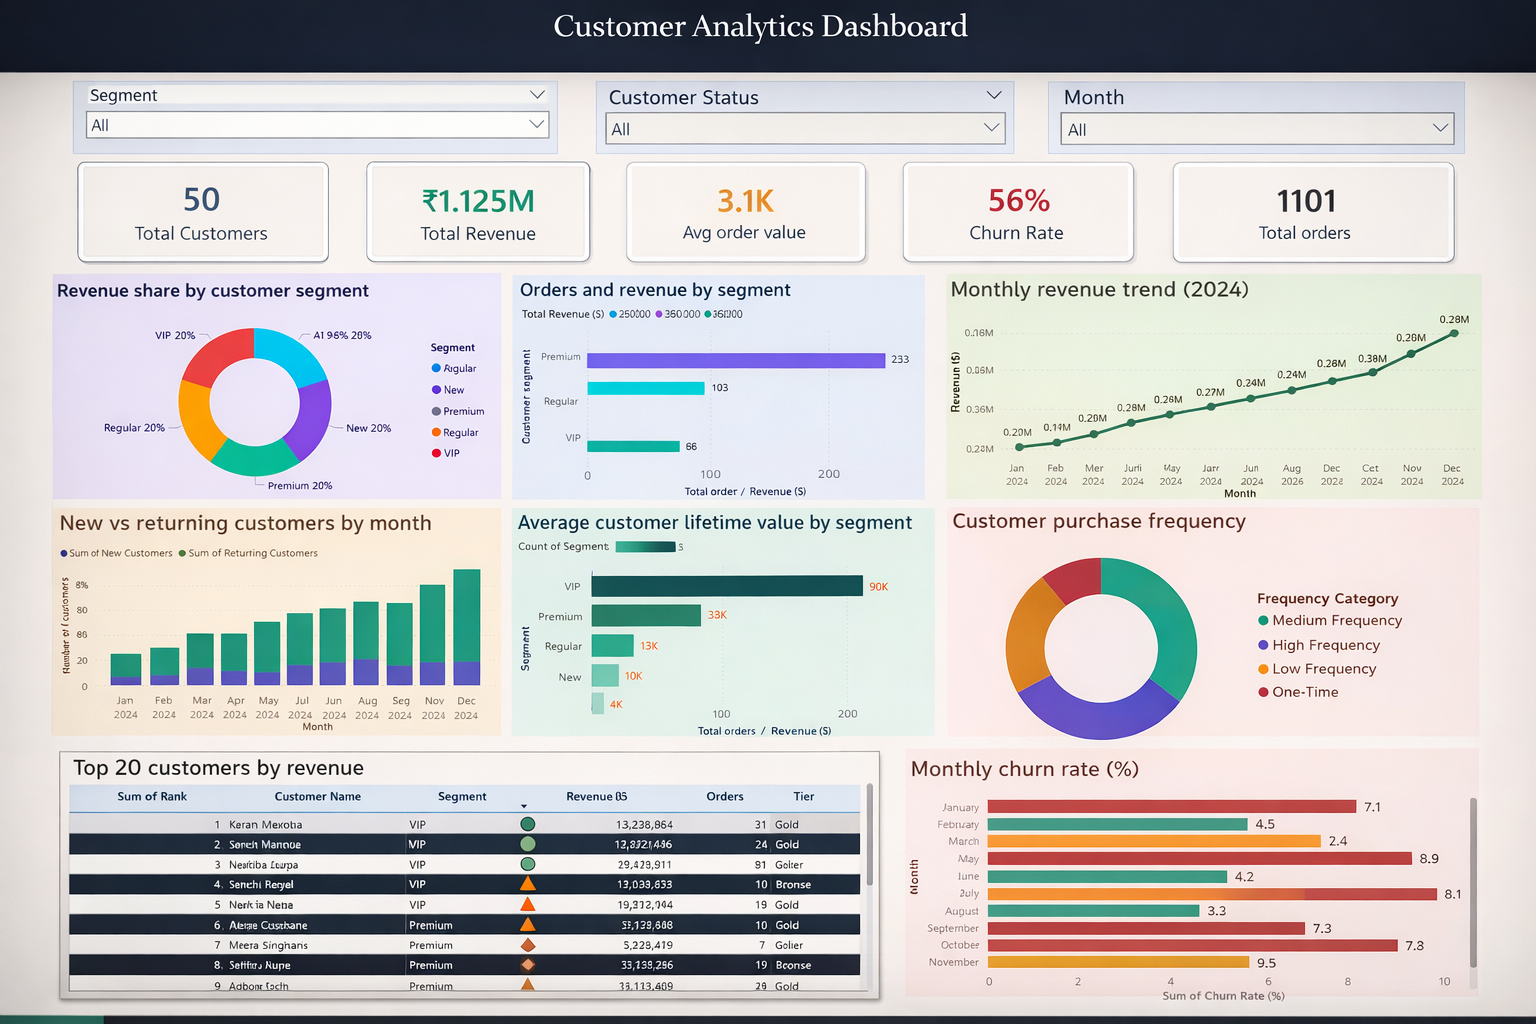

This screenshot's page, from the dashboard's own definition file:
{"tool":"powerbi","page":{"name":"Page 1","canvas":[1800,1400],"ordinal":0},"visuals":[{"type":"cardVisual","fields":{"Data":["Customer_Data.Total Customers"]},"box":[32.1,195.4,334.6,139.2],"z":0},{"type":"cardVisual","fields":{"Data":["Customer_Data.Total Revenue"]},"box":[417.6,195.4,305.2,139.2],"z":1000},{"type":"cardVisual","fields":{"Data":["Avg(Customer_Data.Avg Order Value ($))"]},"box":[785.2,196.9,319.4,139.3],"z":2000},{"type":"cardVisual","fields":{"Data":["Customer_Data.Churn Rate"]},"box":[1156.4,198.1,281.1,136.5],"z":3000},{"type":"cardVisual","fields":{"Data":["Sum(Customer_Data.Total Orders)"]},"box":[1467.2,196.9,283.4,139.3],"z":4000},{"type":"donutChart","title":"Revenue share by customer segment","fields":{"Category":["Customer_Segmentation.Segment"],"Y":["CountNonNull(Customer_Segmentation.Total Revenue ($))"]},"box":[0,345.3,607.6,291.8],"z":5000},{"type":"clusteredBarChart","title":"Orders and revenue by segment","fields":{"Series":["Customer_Segmentation.Total Revenue ($)"],"Y":["Sum(Top_Customers.Total Orders)"],"Category":["Customer_Segmentation.Segment"]},"box":[625.6,350.7,548.8,291.8],"z":6000},{"type":"lineChart","title":"Monthly revenue trend (2024)","fields":{"Category":["Monthly_Revenue.Month"],"Y":["Sum(Monthly_Revenue.Total Revenue ($))"]},"box":[1185.9,345.3,613,291.8],"z":7000},{"type":"tableEx","title":"Top 20 customers by revenue","fields":{"Values":["Sum(Top_Customers.Rank)","Top_Customers.Customer Name","Top_Customers.Segment","Sum(Top_Customers.Total Revenue ($))","Sum(Top_Customers.Total Orders)","Top_Customers.Tier"]},"box":[32.1,1030.6,1073.4,337.3],"z":8000},{"type":"clusteredBarChart","title":"Monthly churn rate (%)","fields":{"Category":["Churn_Analysis.Month.Variation.Date Hierarchy.Year","Churn_Analysis.Month.Variation.Date Hierarchy.Quarter","Churn_Analysis.Month.Variation.Date Hierarchy.Month","Churn_Analysis.Month.Variation.Date Hierarchy.Day"],"Y":["Sum(Churn_Analysis.Churn Rate (%))"]},"box":[1135,1030.6,663.9,337.3],"z":9000},{"type":"textbox","box":[-51,0,1902,86],"z":10000},{"type":"clusteredBarChart","title":"Average customer lifetime value by segment","fields":{"Category":["Customer_Segmentation.Segment"],"Y":["Avg(Customer_Segmentation.Avg CLV ($))"]},"box":[625.6,658.5,548.8,337.3],"z":11000},{"type":"columnChart","title":"New vs returning customers by month","fields":{"Category":["Monthly_Revenue.Month"],"Y":["Sum(Monthly_Revenue.New Customers)","Sum(Monthly_Revenue.Returning Customers)"]},"box":[0,671.9,580.9,323.9],"z":12000},{"type":"donutChart","title":"Customer purchase frequency","fields":{"Category":["Purchase_Frequency.Frequency Category"],"Y":["CountNonNull(Purchase_Frequency.Customer ID)"]},"box":[1201.9,653.2,586.2,342.6],"z":13000},{"type":"slicer","title":"Segment","fields":{"Values":["Customer_Data.Segment"]},"box":[32.6,91,644.2,97.7],"z":14000},{"type":"slicer","fields":{"Values":["Customer_Data.Customer Status"]},"box":[733.2,91,548.8,101.7],"z":15000},{"type":"slicer","fields":{"Values":["Monthly_Revenue.Month"]},"box":[1338.4,91,431,104.4],"z":16000}]}

Visuals, with their boxes on the page's 1800x1400 design canvas (x1, y1, x2, y2). These are canvas units, not pixel positions in the 1536x1024 screenshot, which may show the page scaled, cropped or inside an application window:
cardVisual - Customer_Data.Total Customers: 32,195,367,335
cardVisual - Customer_Data.Total Revenue: 418,195,723,335
cardVisual - Avg(Customer_Data.Avg Order Value ($)): 785,197,1105,336
cardVisual - Customer_Data.Churn Rate: 1156,198,1438,335
cardVisual - Sum(Customer_Data.Total Orders): 1467,197,1751,336
"Revenue share by customer segment" donutChart: 0,345,608,637
"Orders and revenue by segment" clusteredBarChart: 626,351,1174,642
"Monthly revenue trend (2024)" lineChart: 1186,345,1799,637
"Top 20 customers by revenue" tableEx: 32,1031,1106,1368
"Monthly churn rate (%)" clusteredBarChart: 1135,1031,1799,1368
textbox: -51,0,1851,86
"Average customer lifetime value by segment" clusteredBarChart: 626,658,1174,996
"New vs returning customers by month" columnChart: 0,672,581,996
"Customer purchase frequency" donutChart: 1202,653,1788,996
"Segment" slicer: 33,91,677,189
slicer - Customer_Data.Customer Status: 733,91,1282,193
slicer - Monthly_Revenue.Month: 1338,91,1769,195
